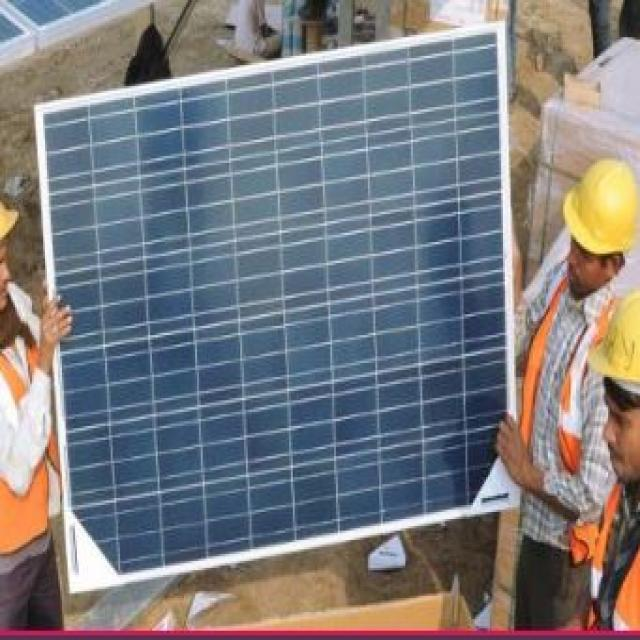no faulty: (43, 98, 494, 562)
